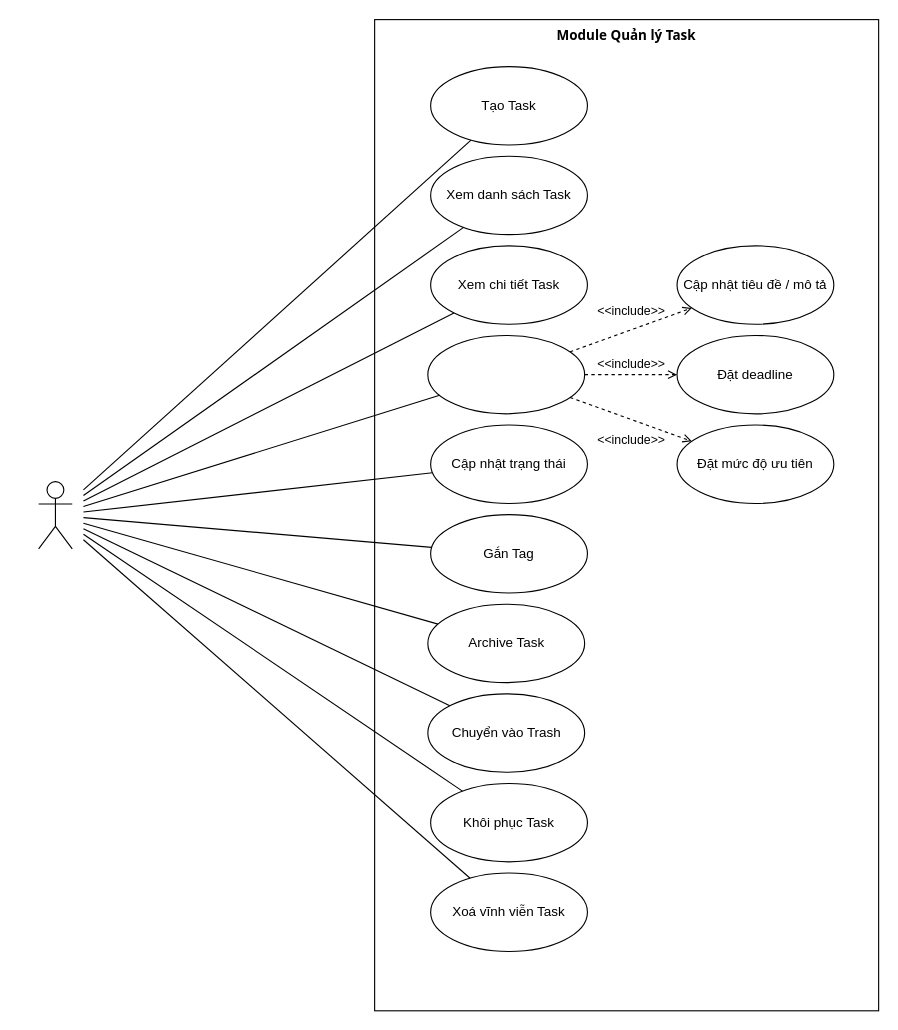
The diagram is 898 pixels wide and 1030 high, and some of its shapes have lost their labels. The centre of each missing label's shape, as x and y in pixels:
"Cập nhật Task" goes at point 506,374.
"Người dùng" goes at point 55,514.
